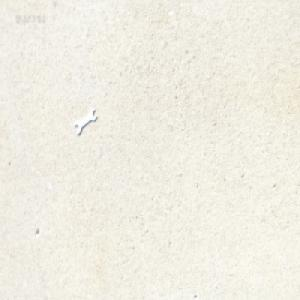Wrench: (74, 108, 97, 138)
